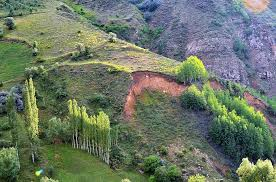mountain: (4, 3, 276, 181)
